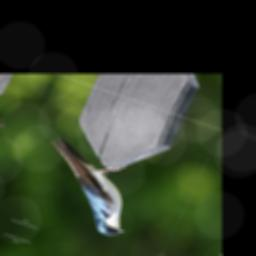Swallow: (20, 134, 156, 240)
